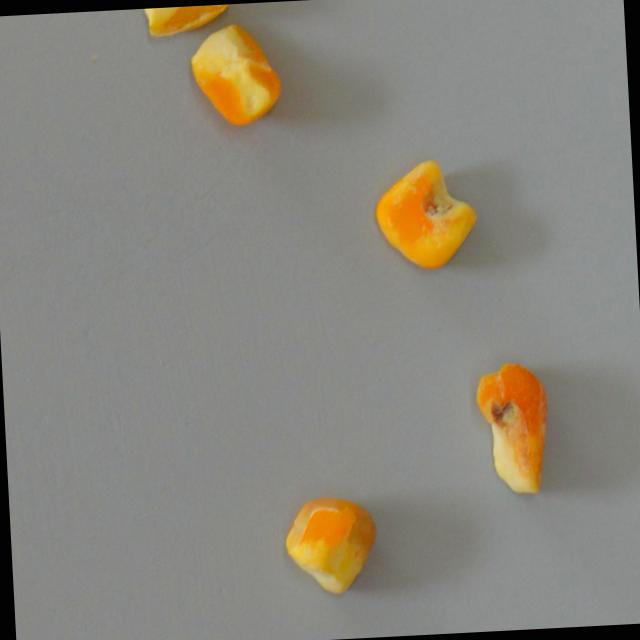dañado: (451, 353, 572, 513), (371, 156, 490, 270), (177, 20, 296, 134), (268, 489, 387, 602), (133, 3, 248, 47)
